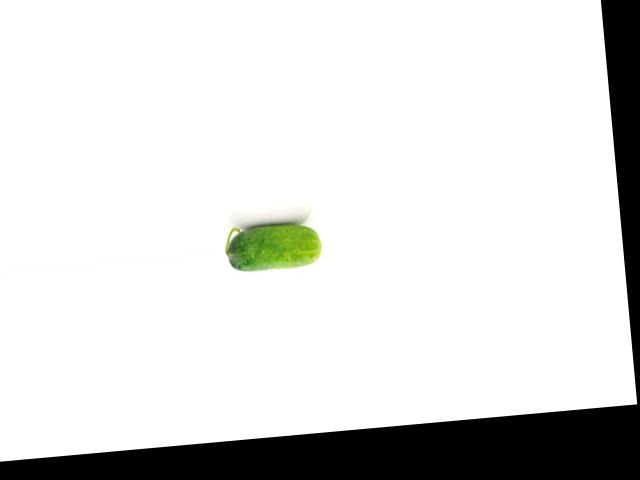cucumber: (224, 219, 324, 273)
